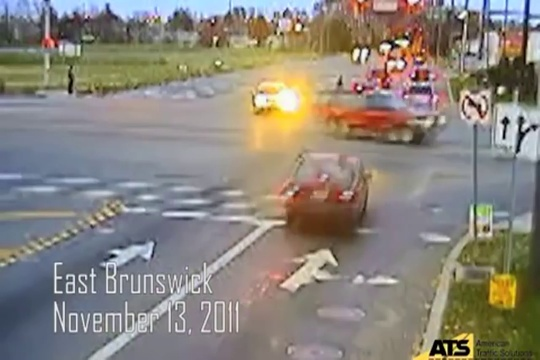car: (281, 145, 375, 231), (321, 88, 452, 148), (252, 74, 299, 116), (402, 81, 445, 110), (350, 68, 394, 95), (404, 64, 440, 84)
